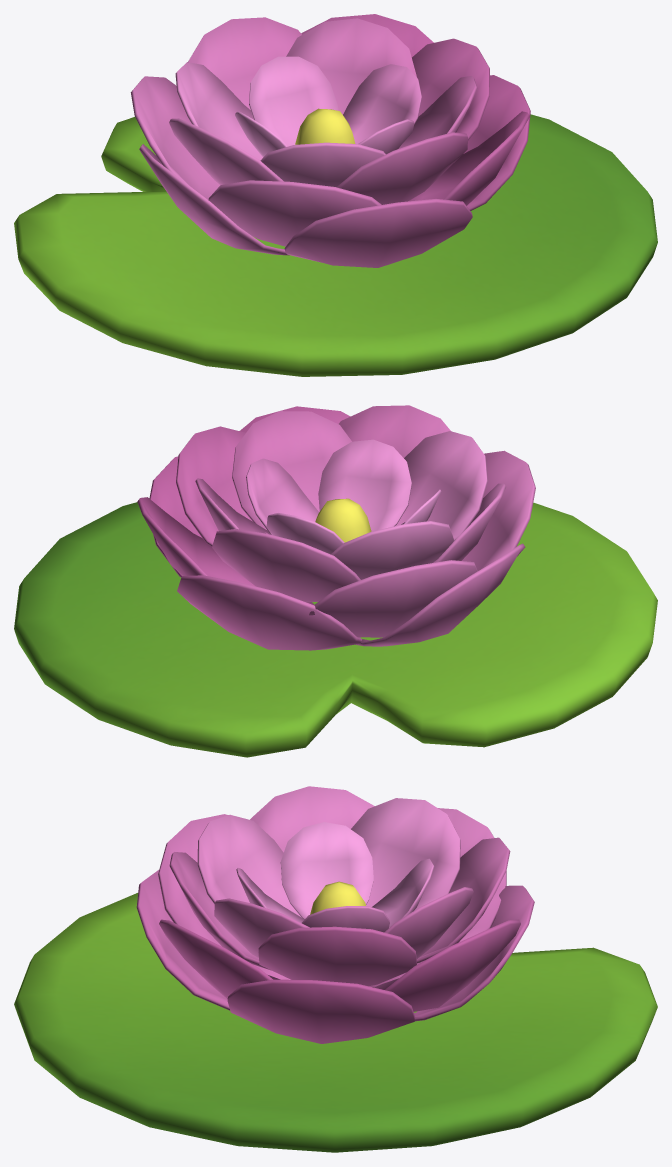
Rendered from NenufarFlorRosa.fbx.
The picture shows the model from 3 angles, top to bottom: view 1: azimuth 30°, elevation 25°; view 2: azimuth 150°, elevation 25°; view 3: azimuth 270°, elevation 25°; orthographic projection.
Parts seen in each view (by area): view 1: Nenufar1, Flor4; view 2: Nenufar1, Flor4; view 3: Nenufar1, Flor4.
Boxes of the visible parts, x1,y1,x2,y2 form: Nenufar1: (14, 114, 657, 376); Flor4: (130, 14, 530, 267); Nenufar1: (14, 502, 657, 757); Flor4: (137, 405, 535, 650); Nenufar1: (14, 893, 657, 1152); Flor4: (136, 786, 534, 1043).
Size of the model in its own units: 187 by 59.54 by 188.
